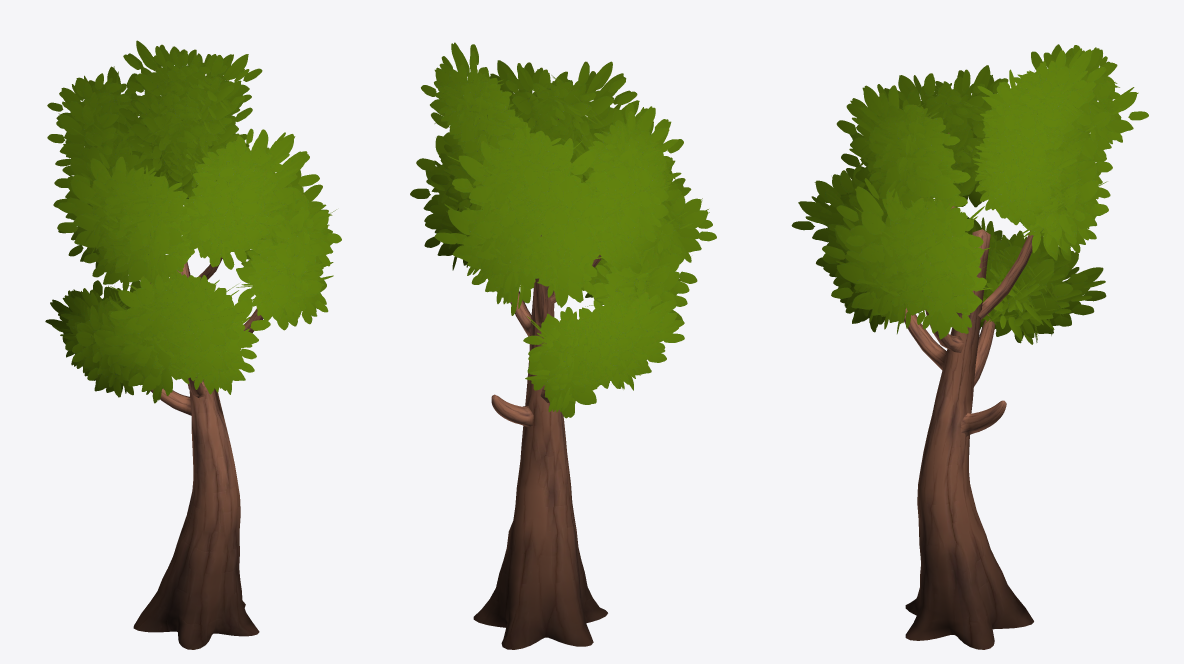
The model's file is tree-other-2-sapling.glb.
3 renders of one model, left to right at view 1: azimuth 30°, elevation 25°; view 2: azimuth 150°, elevation 25°; view 3: azimuth 270°, elevation 25°, orthographic. The views are drawn at different scales.
Visible parts, largest first — view 1: CommonTree_5; view 2: CommonTree_5; view 3: CommonTree_5.
Boxes of the visible parts, x1,y1,x2,y2 form: CommonTree_5: (45,40,341,649); CommonTree_5: (410,42,716,649); CommonTree_5: (791,44,1148,649).
Bounding box in the file's own units: 0.3406 × 0.65 × 0.3915.
Materials: 2 (2 with a texture image).
